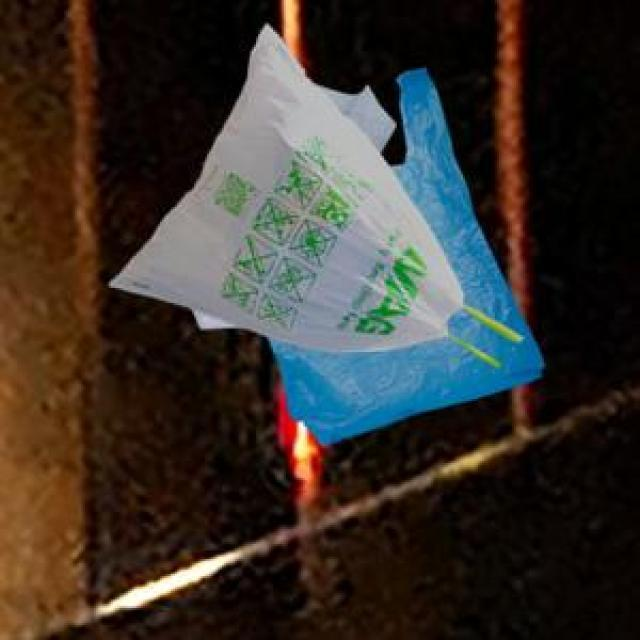waste: (112, 28, 542, 443)
